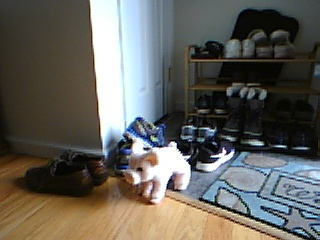piggy: (122, 138, 193, 205)
